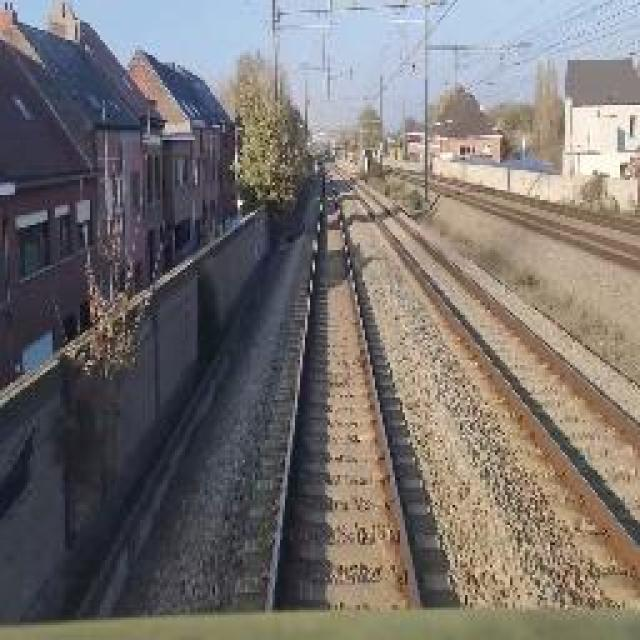rail: (324, 160, 640, 606), (233, 160, 473, 617)
